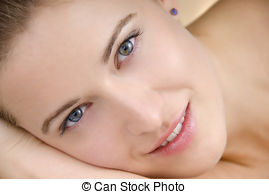face: (1, 1, 235, 183)
